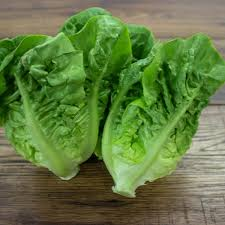lettuce: (3, 18, 202, 175)
